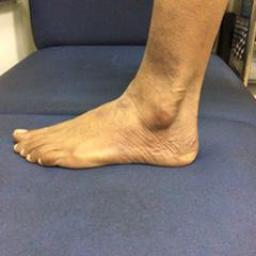Lateral View -Left Foot-: (4, 56, 212, 180)
